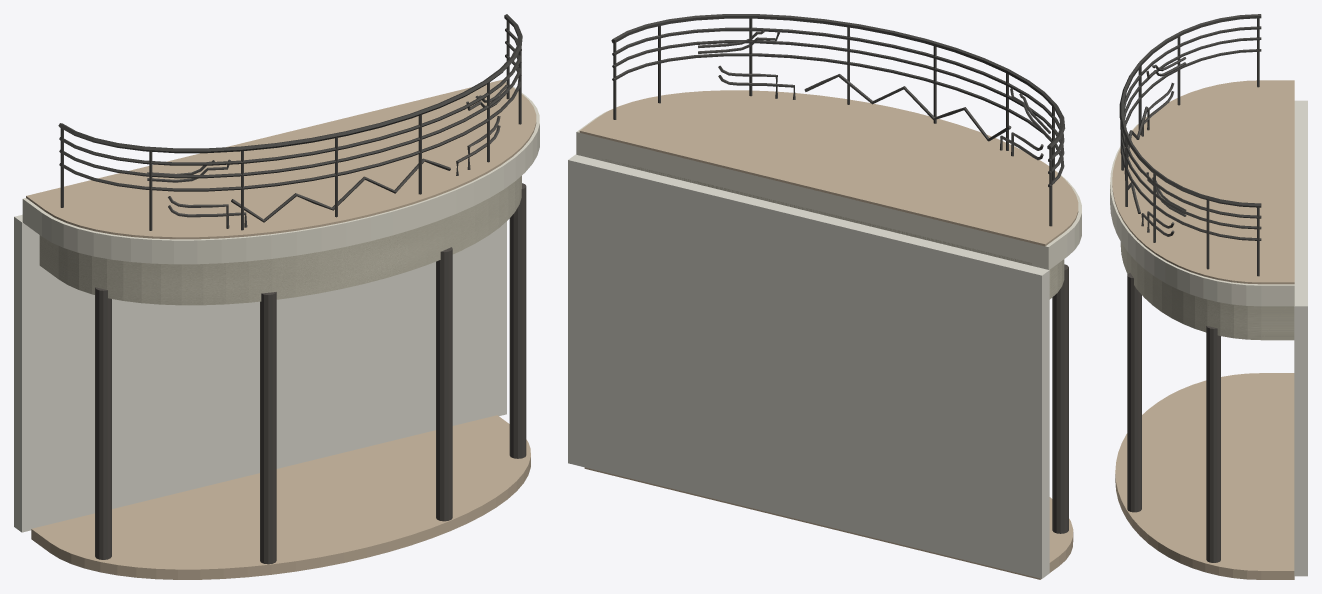
The model's file is animation-studio-white-villa-terrace-far.glb.
3 views of the same model, side by side, from view 1: azimuth 30°, elevation 25°; view 2: azimuth 150°, elevation 25°; view 3: azimuth 270°, elevation 25° (orthographic). The views are drawn at different scales.
Visible parts, largest first — view 1: 上美影小白楼庭院弧形露台与四根圆柱; view 2: 上美影小白楼庭院弧形露台与四根圆柱; view 3: 上美影小白楼庭院弧形露台与四根圆柱.
Part boxes in pixels (<box>): 上美影小白楼庭院弧形露台与四根圆柱: <box>14,14,539,579</box>; 上美影小白楼庭院弧形露台与四根圆柱: <box>568,14,1081,579</box>; 上美影小白楼庭院弧形露台与四根圆柱: <box>1110,14,1307,579</box>.
Size of the model in its own units: 5.12 by 4.32 by 2.08.
7 materials, 1 textured.
